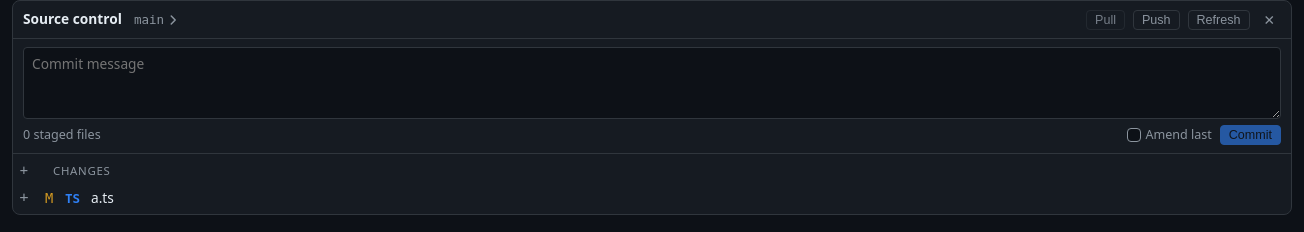
Scenario: choosing a branch › says that uncommitted work comes along
Click the button with aria-label "Switch branch" at (157, 20), box [130, 11, 184, 28]
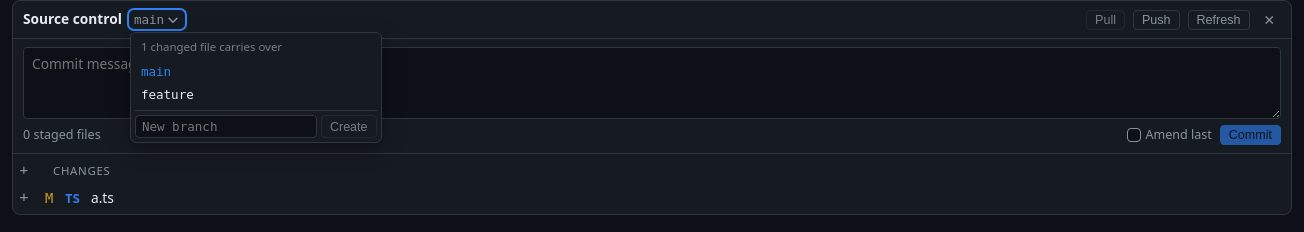
expect the text "1 changed file carries over" is shown: met, box [141, 39, 282, 54]
